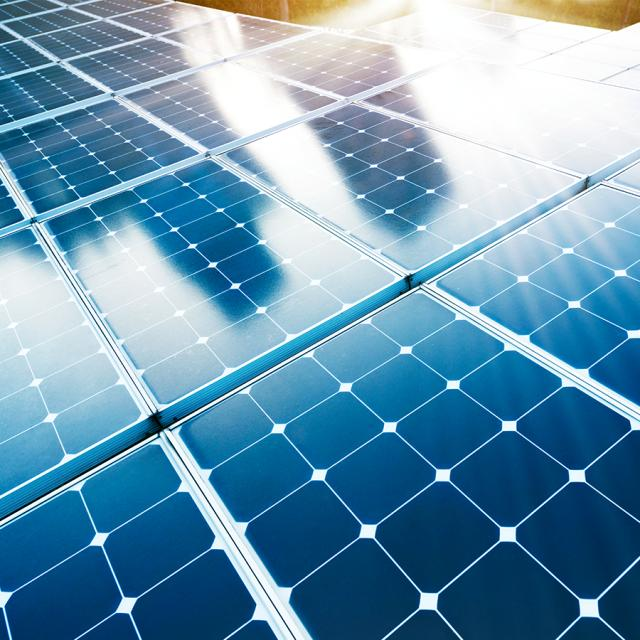crack: (137, 212, 640, 640), (10, 166, 445, 414), (202, 62, 571, 306), (107, 38, 346, 192), (4, 72, 220, 234)
